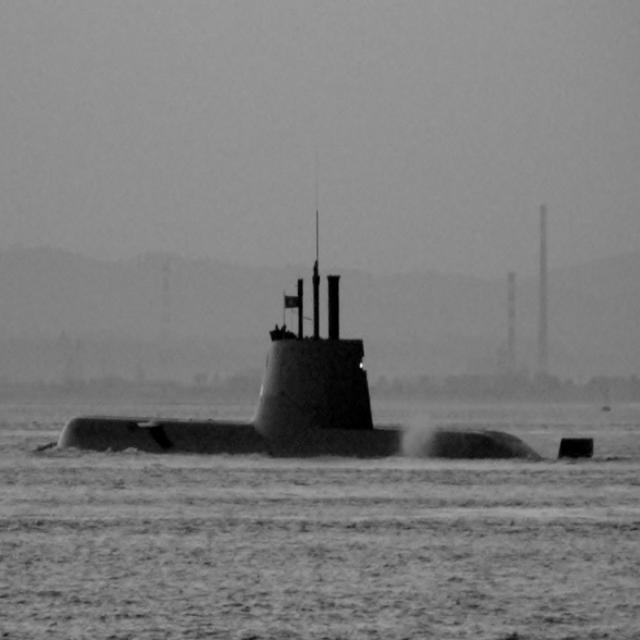submarine: (52, 267, 601, 471)
